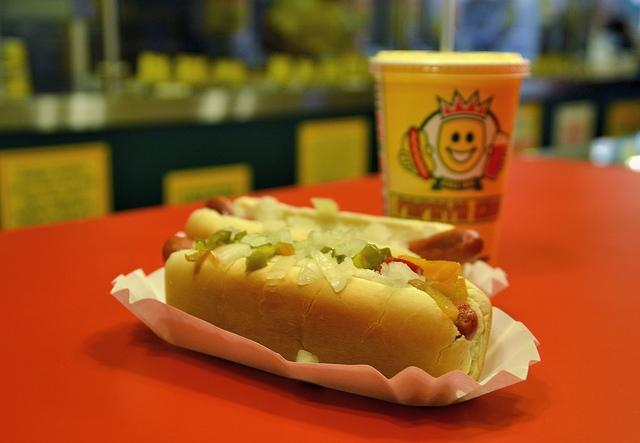onion: (307, 243, 347, 292), (380, 261, 426, 283), (211, 244, 251, 264), (266, 255, 298, 279), (255, 196, 284, 222), (296, 261, 322, 285), (362, 224, 392, 244), (331, 227, 358, 247), (267, 227, 293, 247), (336, 262, 356, 279), (292, 239, 314, 251), (333, 246, 352, 257)
